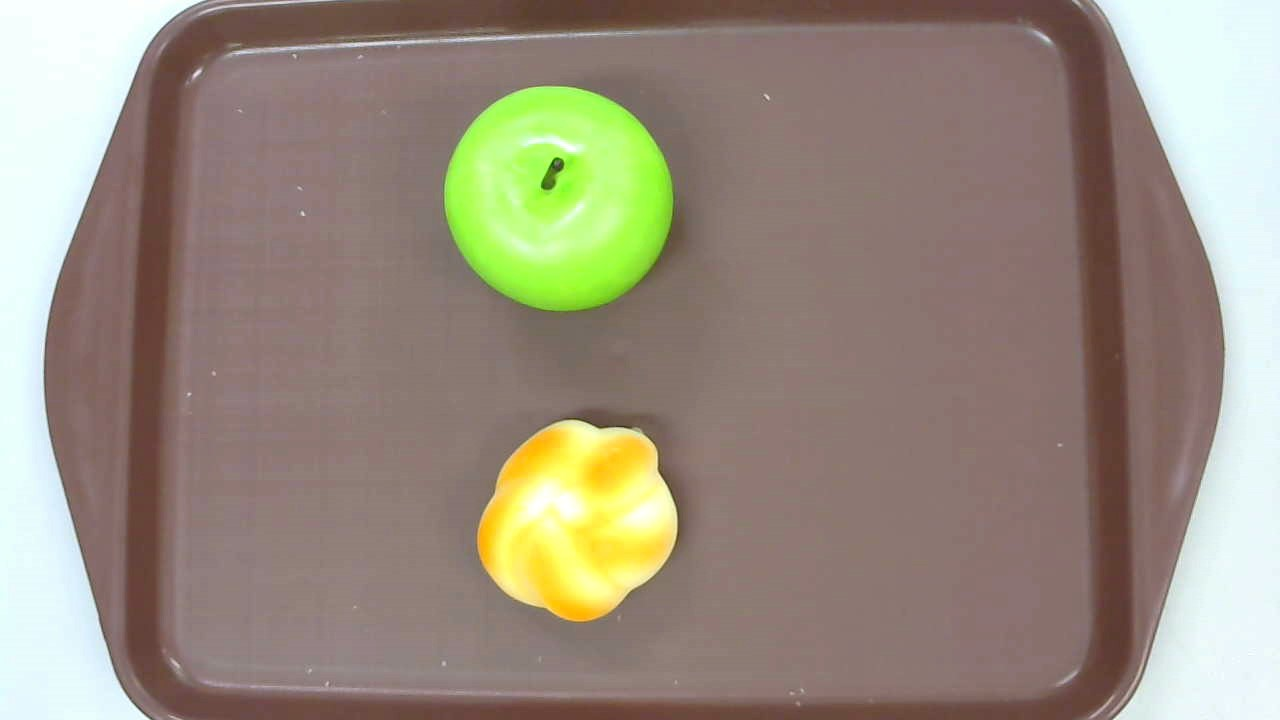green apple: (442, 85, 673, 315)
twist bread: (476, 420, 678, 621)
